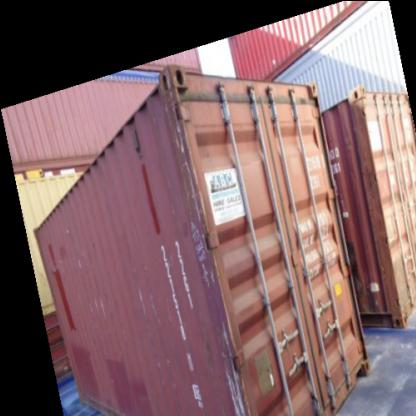Damage: (159, 96, 189, 154), (221, 326, 242, 408), (184, 154, 200, 218), (134, 281, 150, 321), (82, 294, 112, 314), (47, 253, 66, 272), (75, 246, 90, 270), (61, 222, 71, 240)
